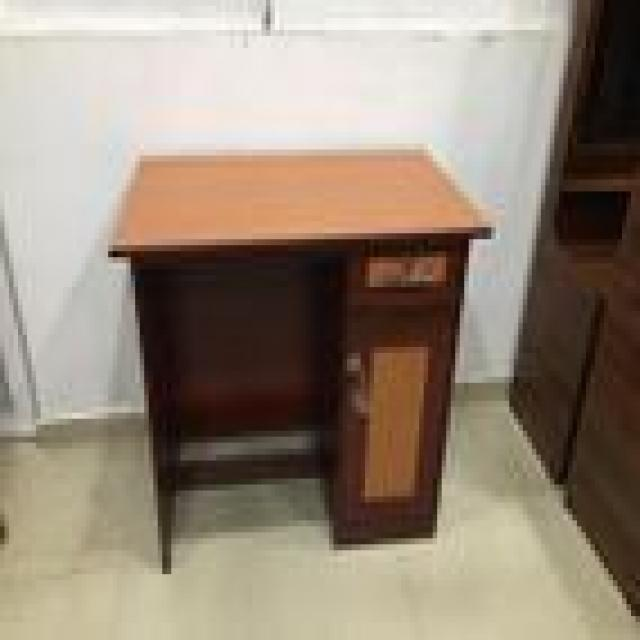others: (99, 120, 500, 580)
